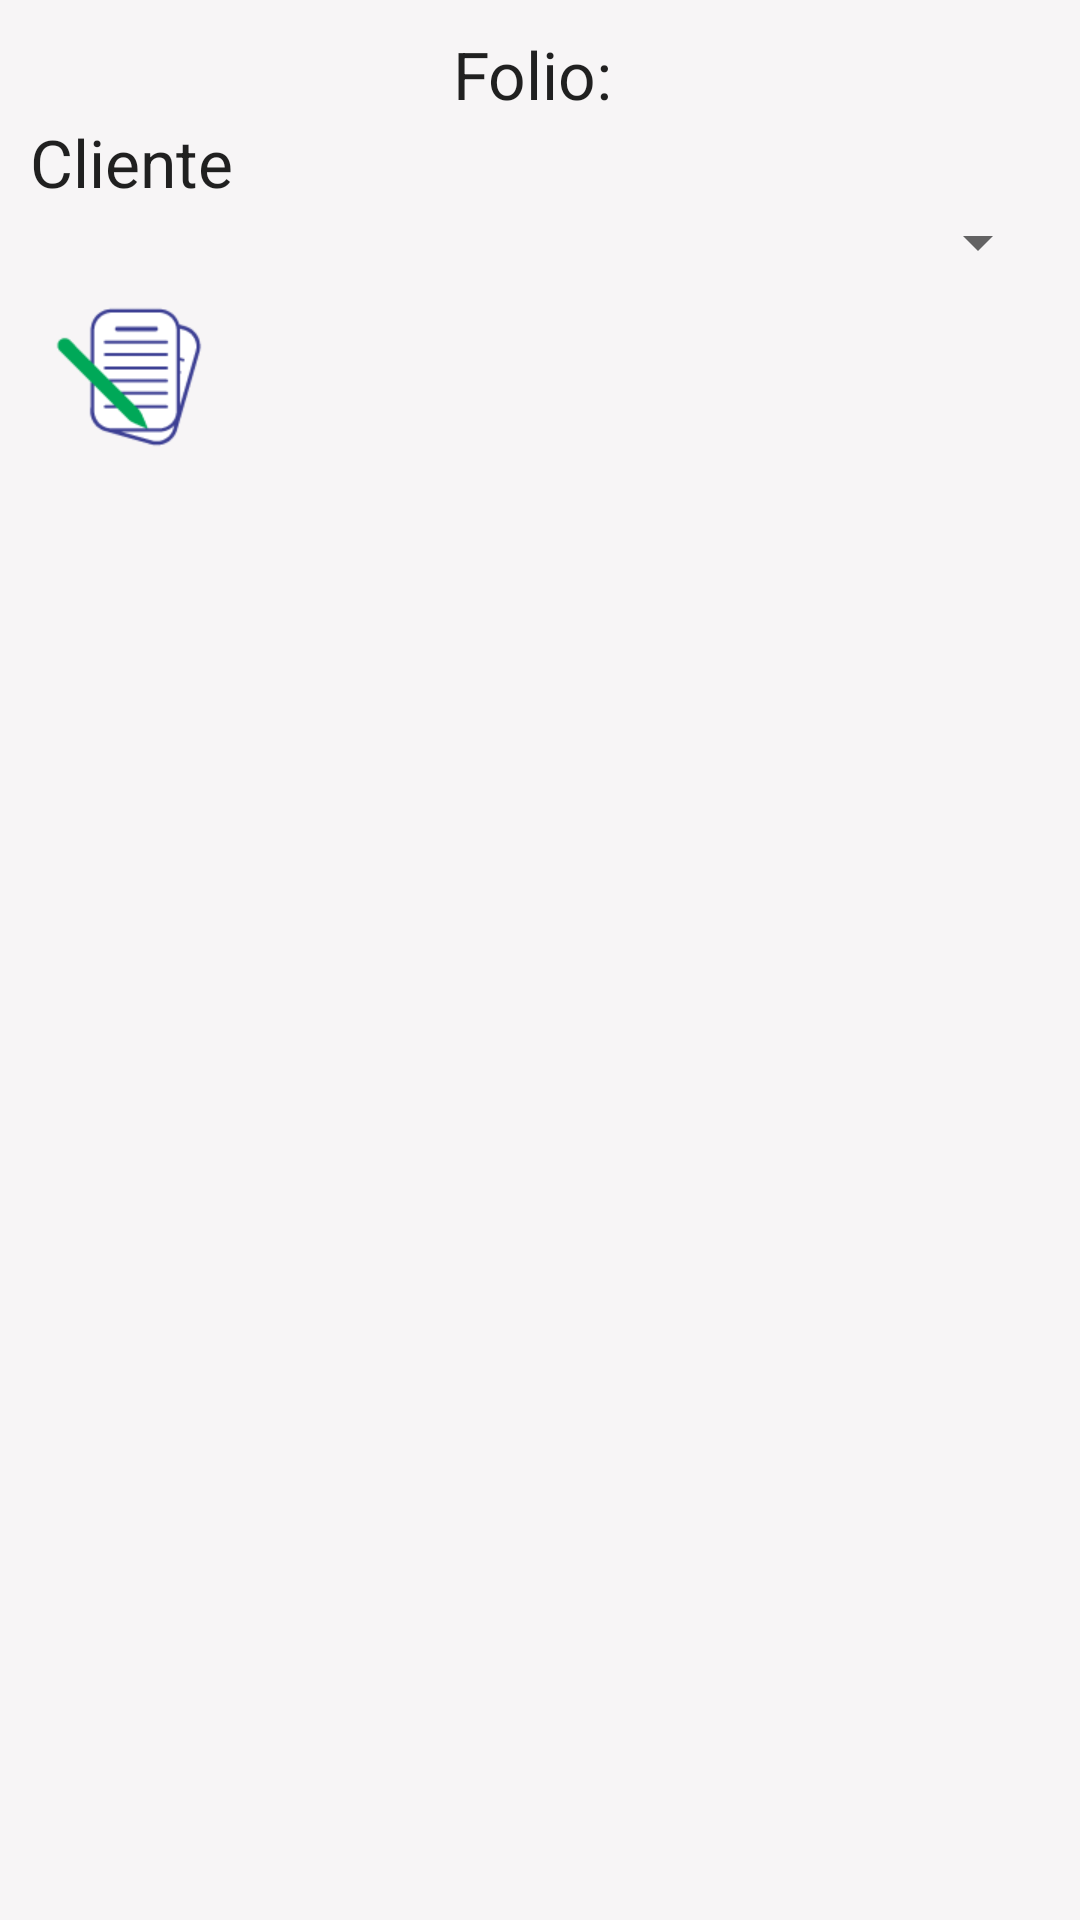

Icons on this 1080 x 1920 Android screen, each with the point to tap as (x=x, y=y):
reporte: (x=129, y=377)
